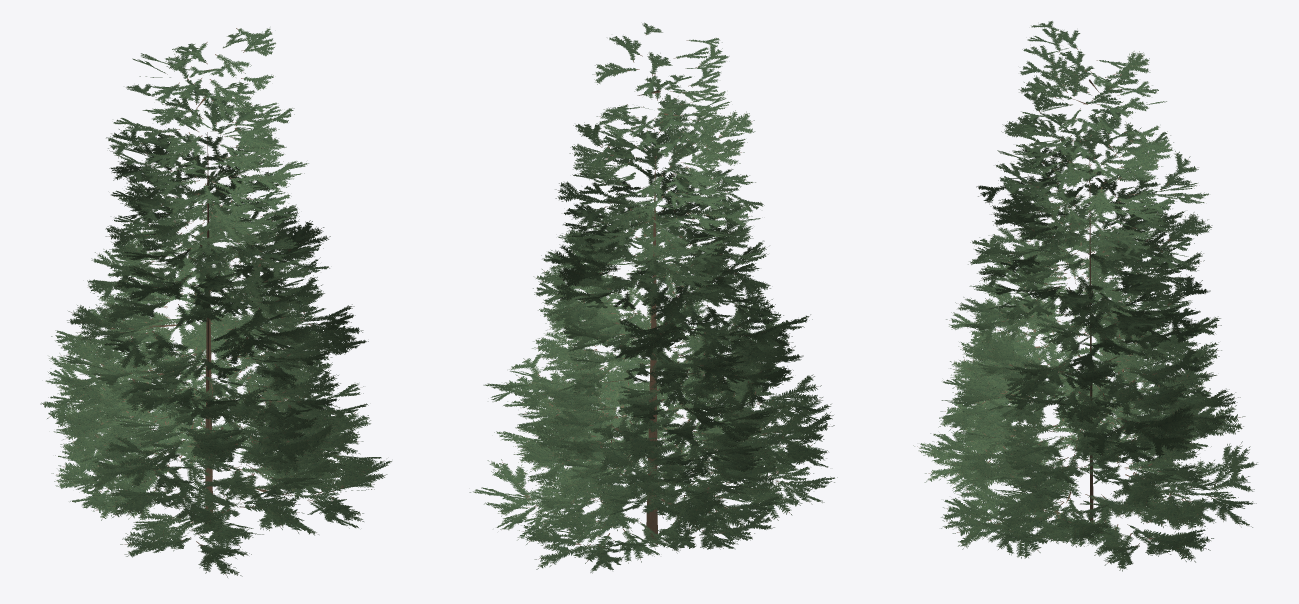
Rendered from Forest_Spruce_Reduced.fbx.
The picture shows the model from 3 angles, left to right: view 1: azimuth 30°, elevation 25°; view 2: azimuth 150°, elevation 25°; view 3: azimuth 270°, elevation 25°; orthographic projection.
Parts seen in each view (by area): view 1: Forest_Spruce_Reduced; view 2: Forest_Spruce_Reduced; view 3: Forest_Spruce_Reduced.
Part boxes in pixels (bbox=[...]): Forest_Spruce_Reduced: bbox=[40, 28, 391, 577]; Forest_Spruce_Reduced: bbox=[469, 22, 837, 573]; Forest_Spruce_Reduced: bbox=[913, 21, 1257, 571].
Bounding box in the file's own units: 1158 × 1608 × 1134.
